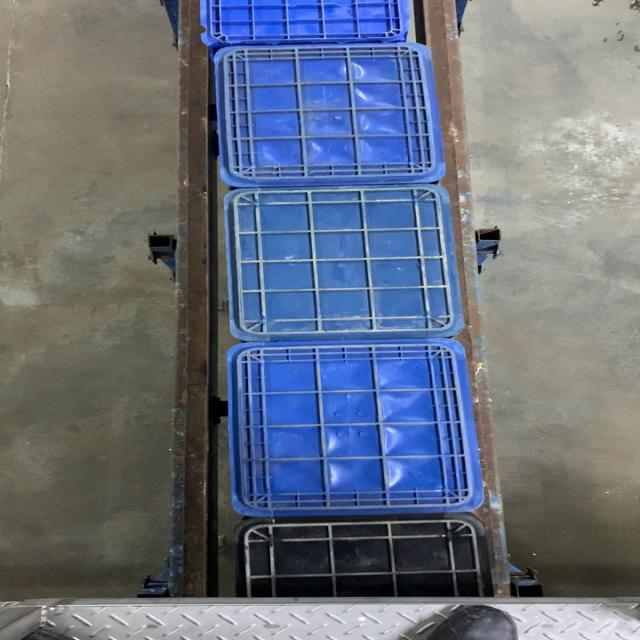Box: (224, 342, 484, 519), (221, 185, 467, 341), (210, 42, 450, 185)
